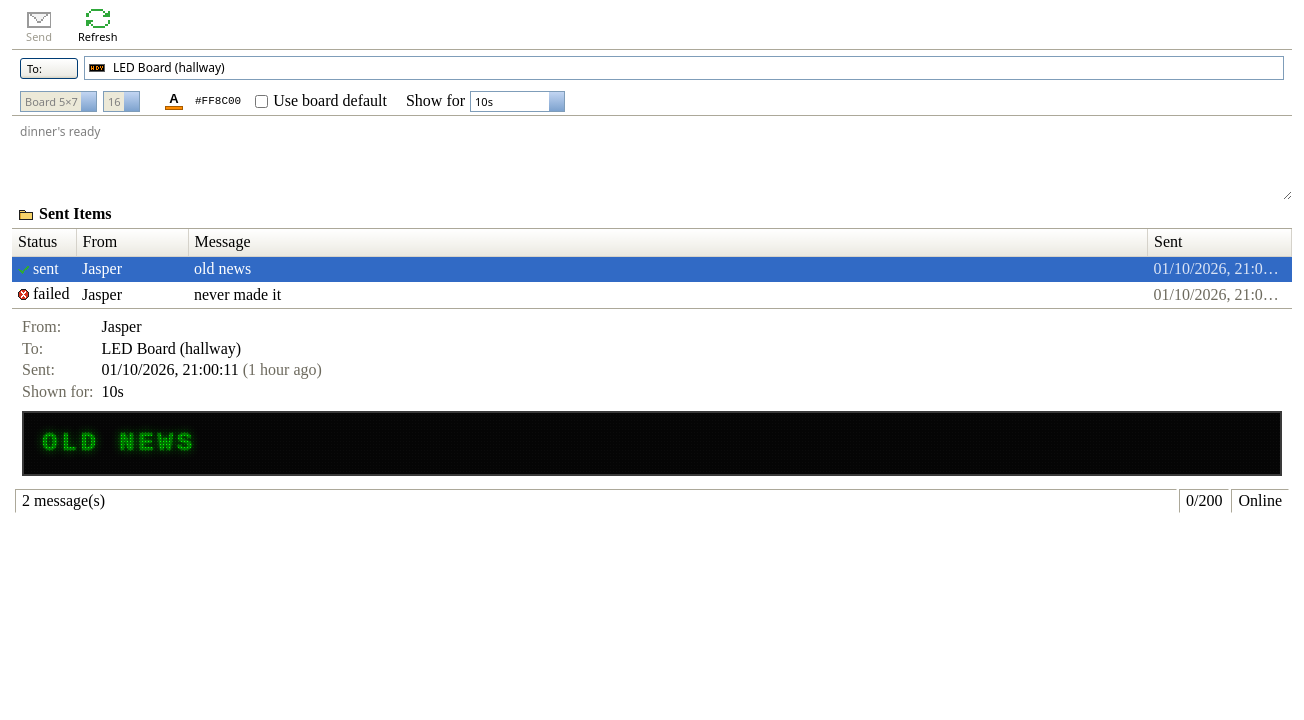
Test: BoardClient › shows the delivery error when a failed message is selected
Click the text "never made it" at [238, 294], box [188,282,1148,308]
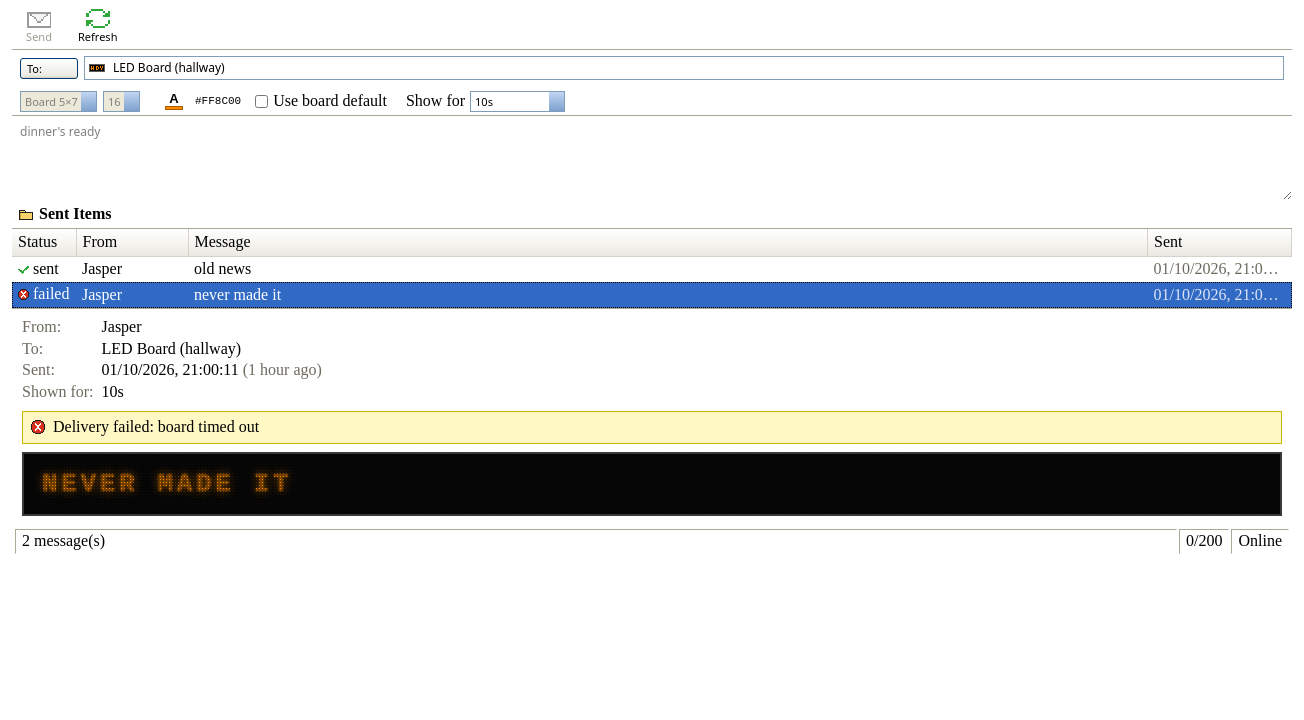
Now the text "Delivery failed: board timed out" is shown, box [22,411,1282,444]
